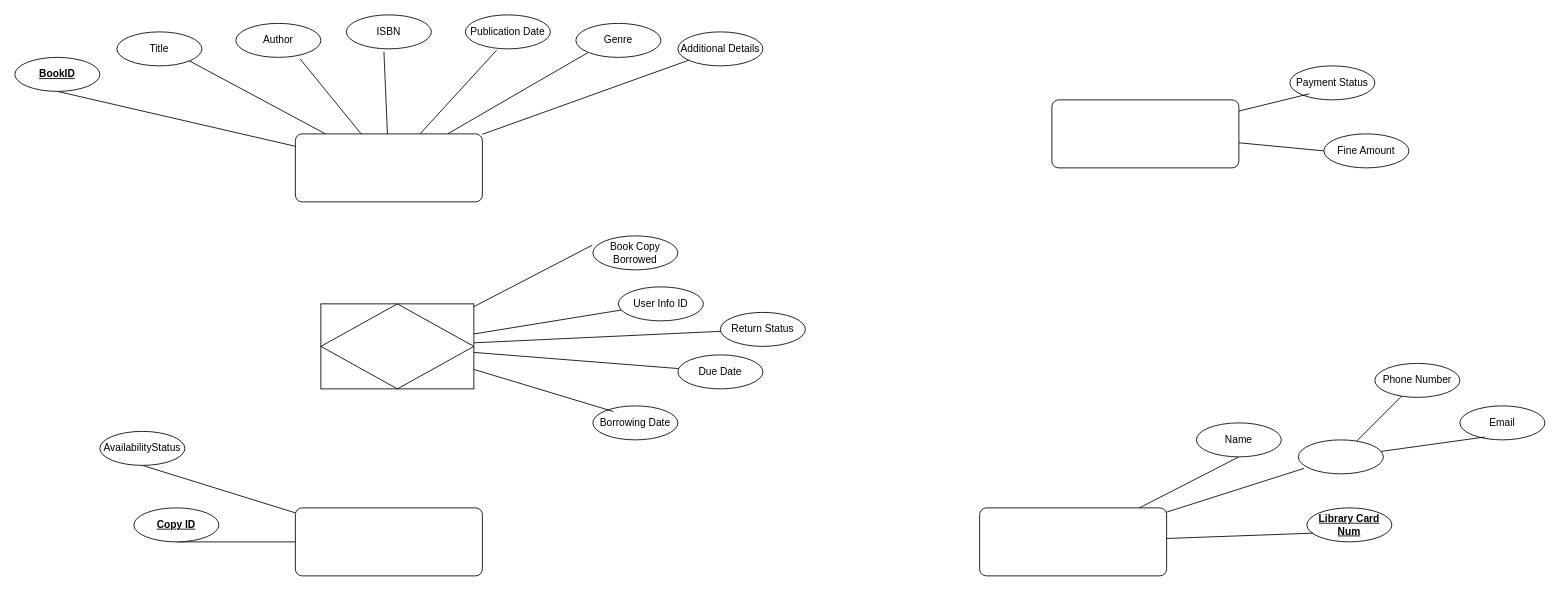
The diagram is 1560 pixels wide and 591 high, and some of its shapes have lost their labels. The shapes that lost their labels are listed below. From the top down, each one's centre as x and y in pixels, then its label:
the point at 1145,133: fine
the point at 388,167: Book
the point at 397,346: Borrow
the point at 1340,456: Contact Info
the point at 388,541: BookCopy
the point at 1073,541: User
